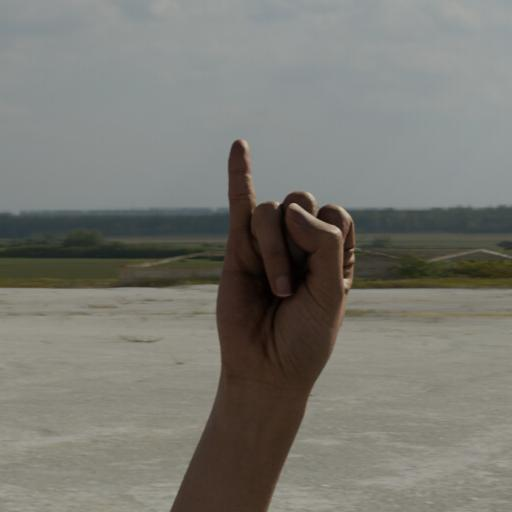I: (222, 132, 356, 402)
